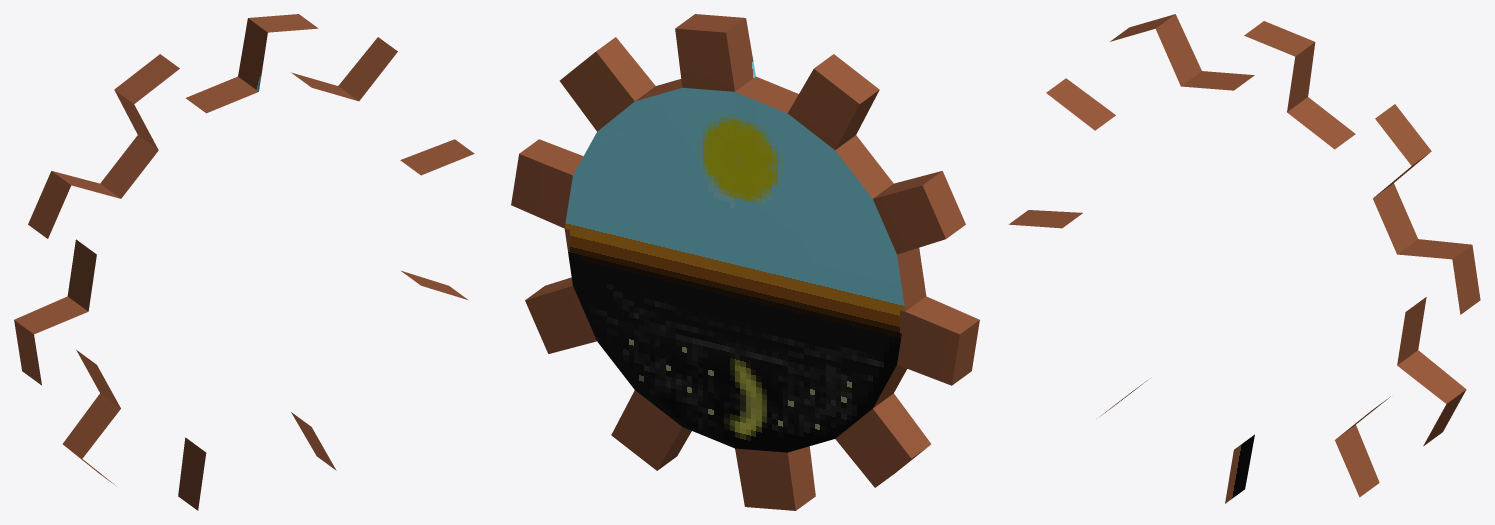
The model's file is GearWheel.glb.
3 renders of one model, left to right at view 1: azimuth 30°, elevation 25°; view 2: azimuth 150°, elevation 25°; view 3: azimuth 330°, elevation 25°, orthographic.
Visible parts, largest first — view 1: Wheel2, Wheel4, Wheel1, Wheel3; view 2: Wheel4, Wheel1, Wheel2, Wheel3; view 3: Wheel1, Wheel3, Wheel2, Wheel4.
Part boxes in pixels (left/top/right/bottom): Wheel2: left=28, top=54, right=258, bottom=311; Wheel4: left=14, top=296, right=206, bottom=510; Wheel1: left=238, top=14, right=474, bottom=175; Wheel3: left=291, top=270, right=467, bottom=470; Wheel4: left=735, top=270, right=979, bottom=510; Wheel1: left=511, top=14, right=755, bottom=269; Wheel2: left=735, top=54, right=965, bottom=311; Wheel3: left=525, top=228, right=734, bottom=470; Wheel1: left=1244, top=21, right=1480, bottom=314; Wheel3: left=1335, top=297, right=1466, bottom=497; Wheel2: left=1046, top=14, right=1254, bottom=130; Wheel4: left=1009, top=210, right=1254, bottom=503.
Size of the model in its own units: 7.76 by 7.76 by 0.6289.
4 materials, 4 textured.
